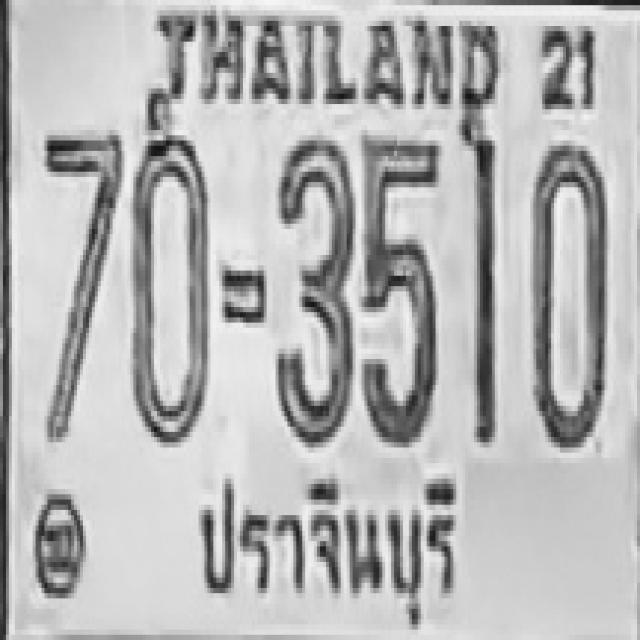0: (129, 127, 209, 445), (530, 140, 608, 448)
1: (470, 133, 496, 445)
3: (274, 133, 354, 445)
5: (360, 133, 440, 445)
7: (42, 130, 122, 442)
PrachinBuri: (180, 458, 466, 632)
